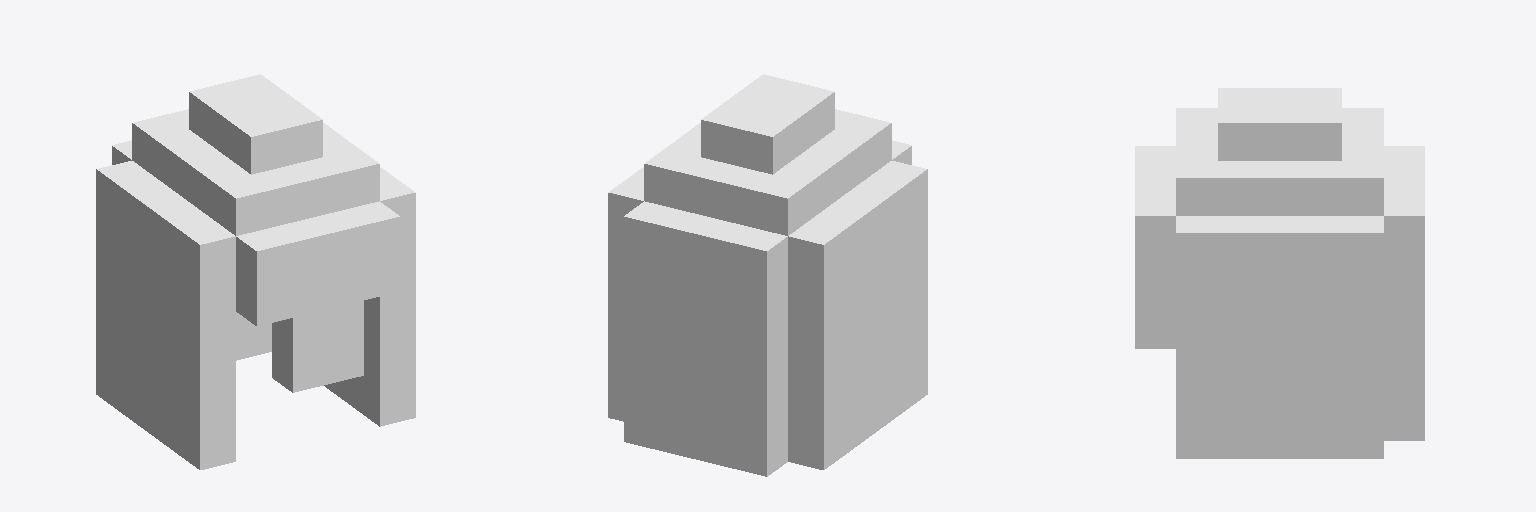
The model's file is char-167-helm_med_1d_sh.obj.
The picture shows the model from 3 angles: view 1: azimuth 30°, elevation 25°; view 2: azimuth 150°, elevation 25°; view 3: azimuth 270°, elevation 25°; orthographic projection.
Visible parts, largest first — view 1: helm_med_1d_sh; view 2: helm_med_1d_sh; view 3: helm_med_1d_sh.
Part boxes in pixels (x1,y1,x2,y2): helm_med_1d_sh: (96, 74, 415, 469); helm_med_1d_sh: (608, 74, 927, 476); helm_med_1d_sh: (1135, 88, 1424, 458).
Bounding box in the file's own units: 0.6 × 0.8 × 0.7.